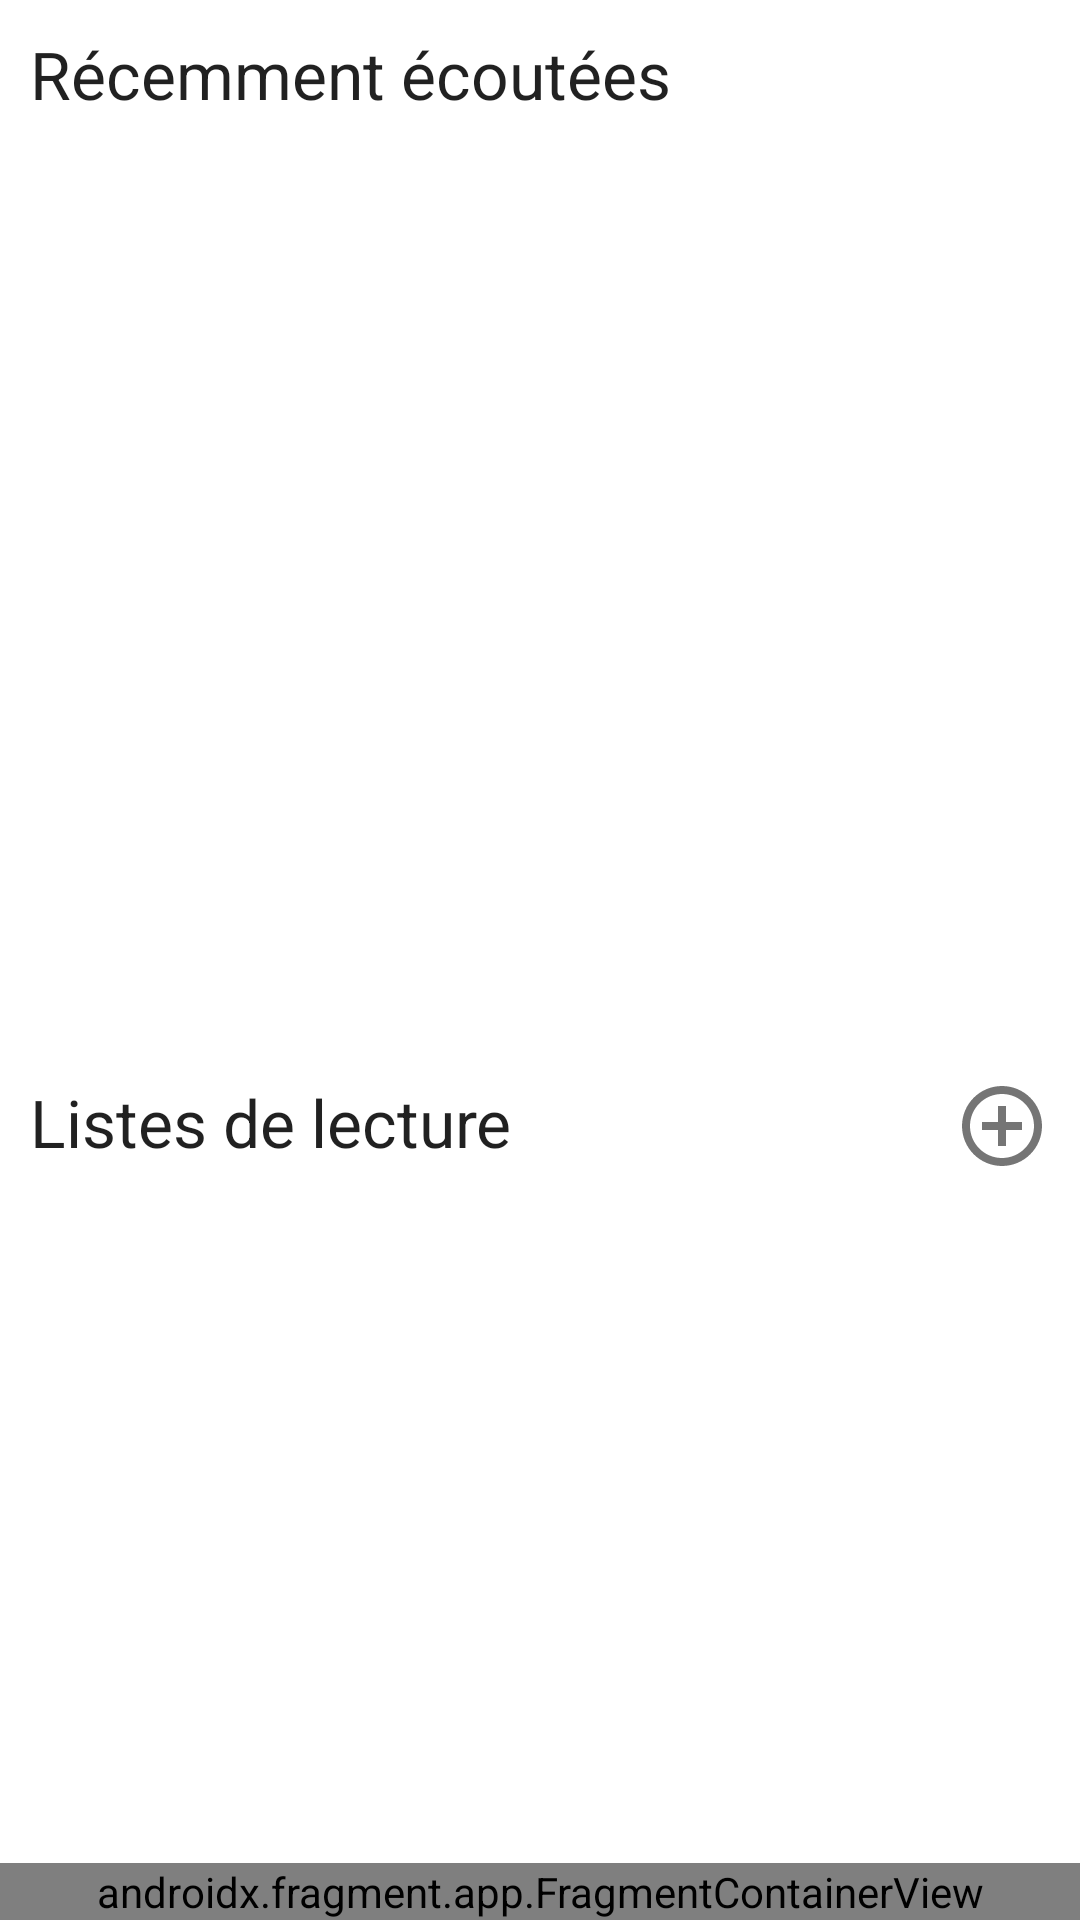

Locate icon controls on the screen. Image size 1080px x 1920px, boxes as (x1, y1, x2, y2).
add circle: (962, 1086, 1042, 1166)
